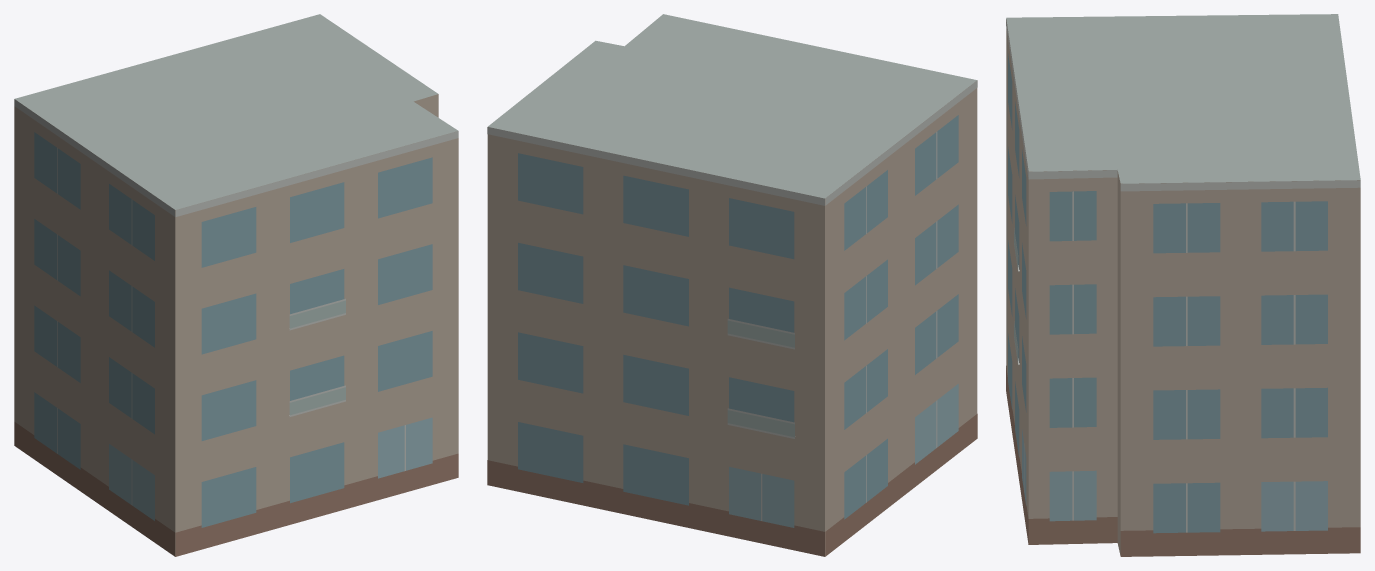
The model's file is survey-upis-32520485.glb.
The picture shows the model from 3 angles, left to right: view 1: azimuth 30°, elevation 25°; view 2: azimuth 150°, elevation 25°; view 3: azimuth 270°, elevation 25°; orthographic projection. The views are drawn at different scales.
Visible parts, largest first — view 1: survey-upis-32520485.tmp; view 2: survey-upis-32520485.tmp; view 3: survey-upis-32520485.tmp.
Part boxes in pixels (x1,y1,x2,y2): survey-upis-32520485.tmp: (14,14,458,556); survey-upis-32520485.tmp: (487,14,977,556); survey-upis-32520485.tmp: (1006,14,1360,556).
Bounding box in the file's own units: 11.52 × 11.8 × 10.17.
